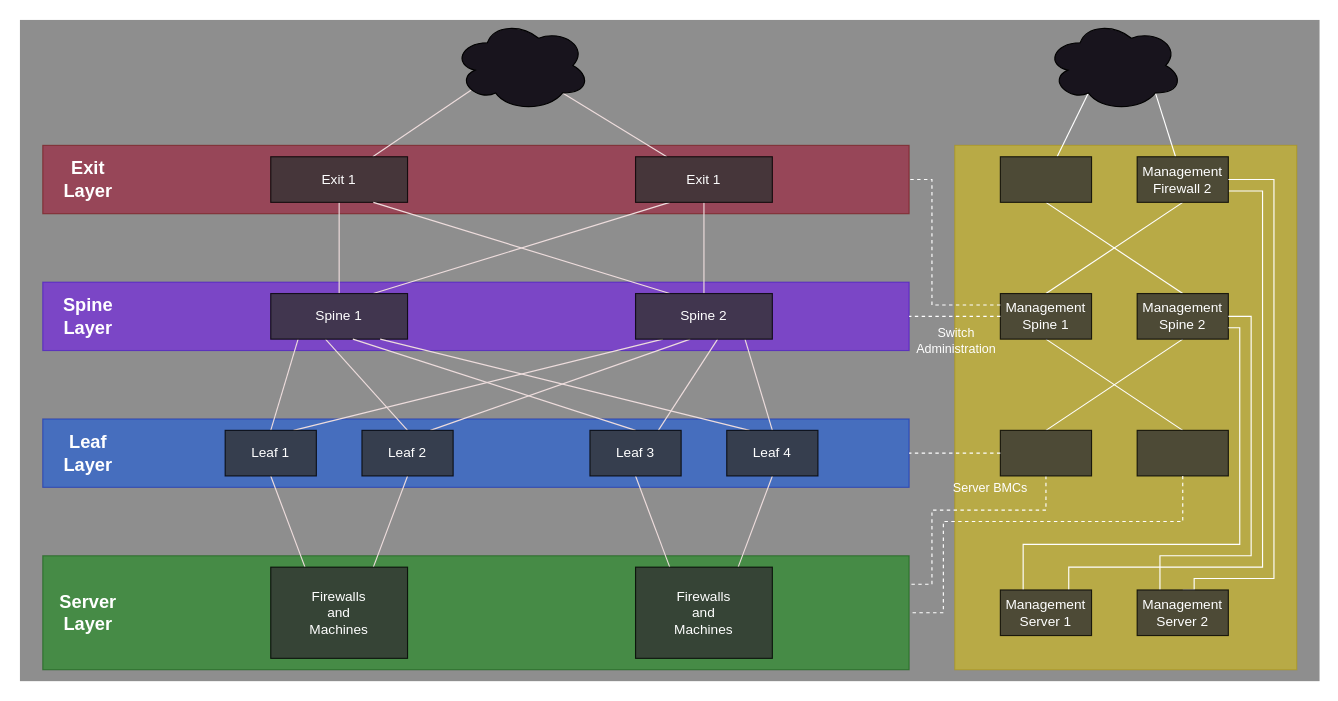
Some shapes in this 1338 by 701 pixel diagram are drawn without their labels. The centre of each missing label's shape, as x and y in pixels:
"External Networks" goes at [521,65].
"Management Firewall 1" goes at [1045,179].
"Management Leaf 1" goes at [1045,452].
"Management Leaf 2" goes at [1182,452].
"metal-stack Control Plane" goes at [1114,65].
